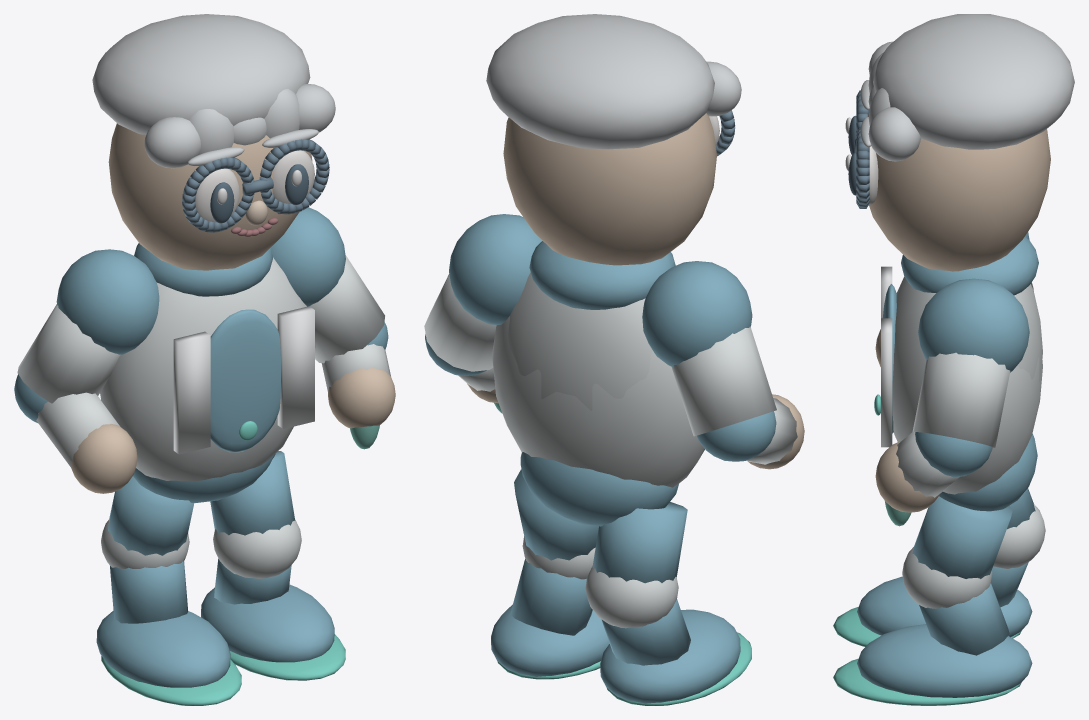
The model's file is 14_scientist.glb.
3 views of the same model, side by side, from view 1: azimuth 30°, elevation 25°; view 2: azimuth 150°, elevation 25°; view 3: azimuth 270°, elevation 25° (orthographic). The views are drawn at different scales.
Visible parts, largest first — view 1: 14_scientist_hair-cap_044, 14_scientist_labcoat_050, 14_scientist_face_025, 14_scientist_shirt_051, 14_scientist_pauldron_009, 14_scientist_oversized-boot_018, 14_scientist_oversized-boot_023, 14_scientist_upper-arm_005, 14_scientist_pauldron_014, 14_scientist_upper-leg_015, 14_scientist_upper-arm_010, 14_scientist_labcoat-lapel_052 (+24 smaller); view 2: 14_scientist_hair-cap_044, 14_scientist_face_025, 14_scientist_labcoat_050, 14_scientist_outfit-torso_001, 14_scientist_pauldron_009, 14_scientist_pauldron_014, 14_scientist_upper-arm_005, 14_scientist_oversized-boot_018, 14_scientist_shorts_002, 14_scientist_upper-leg_015, 14_scientist_collar_003, 14_scientist_oversized-boot_023 (+11 smaller); view 3: 14_scientist_hair-cap_044, 14_scientist_face_025, 14_scientist_oversized-boot_023, 14_scientist_labcoat_050, 14_scientist_pauldron_014, 14_scientist_upper-arm_010, 14_scientist_upper-leg_020, 14_scientist_lower-leg_022, 14_scientist_oversized-boot_018, 14_scientist_collar_003, 14_scientist_knee_021, 14_scientist_shorts_002 (+14 smaller).
Boxes of the visible parts, x1,y1,x2,y2 form: 14_scientist_hair-cap_044: [92, 14, 310, 134]; 14_scientist_labcoat_050: [100, 257, 315, 481]; 14_scientist_face_025: [108, 123, 312, 270]; 14_scientist_shirt_051: [210, 309, 280, 452]; 14_scientist_pauldron_009: [56, 249, 159, 354]; 14_scientist_oversized-boot_018: [96, 611, 230, 687]; 14_scientist_oversized-boot_023: [201, 584, 334, 662]; 14_scientist_upper-arm_005: [17, 304, 120, 403]; 14_scientist_pauldron_014: [271, 207, 345, 306]; 14_scientist_upper-leg_015: [108, 476, 194, 555]; 14_scientist_upper-arm_010: [310, 255, 384, 363]; 14_scientist_labcoat-lapel_052: [173, 331, 210, 454]; 14_scientist_hair-cap_044: [486, 14, 714, 149]; 14_scientist_face_025: [503, 113, 716, 265]; 14_scientist_labcoat_050: [492, 316, 704, 487]; 14_scientist_outfit-torso_001: [507, 272, 652, 411]; 14_scientist_pauldron_009: [642, 261, 752, 366]; 14_scientist_pauldron_014: [449, 214, 542, 324]; 14_scientist_upper-arm_005: [671, 326, 776, 436]; 14_scientist_oversized-boot_018: [600, 609, 740, 703]; 14_scientist_shorts_002: [520, 452, 678, 526]; 14_scientist_upper-leg_015: [592, 502, 687, 583]; 14_scientist_collar_003: [529, 241, 675, 309]; 14_scientist_oversized-boot_023: [491, 604, 609, 676]; 14_scientist_hair-cap_044: [873, 14, 1074, 149]; 14_scientist_face_025: [868, 114, 1050, 271]; 14_scientist_oversized-boot_023: [857, 624, 1032, 697]; 14_scientist_labcoat_050: [892, 276, 1042, 494]; 14_scientist_pauldron_014: [918, 278, 1029, 372]; 14_scientist_upper-arm_010: [912, 352, 1010, 448]; 14_scientist_upper-leg_020: [912, 496, 1012, 578]; 14_scientist_lower-leg_022: [919, 583, 1009, 655]; 14_scientist_oversized-boot_018: [857, 576, 1032, 637]; 14_scientist_collar_003: [901, 237, 1038, 295]; 14_scientist_knee_021: [902, 547, 992, 608]; 14_scientist_shorts_002: [939, 433, 1037, 511].
Bounding box in the file's own units: 1.52 × 2.64 × 0.91.
